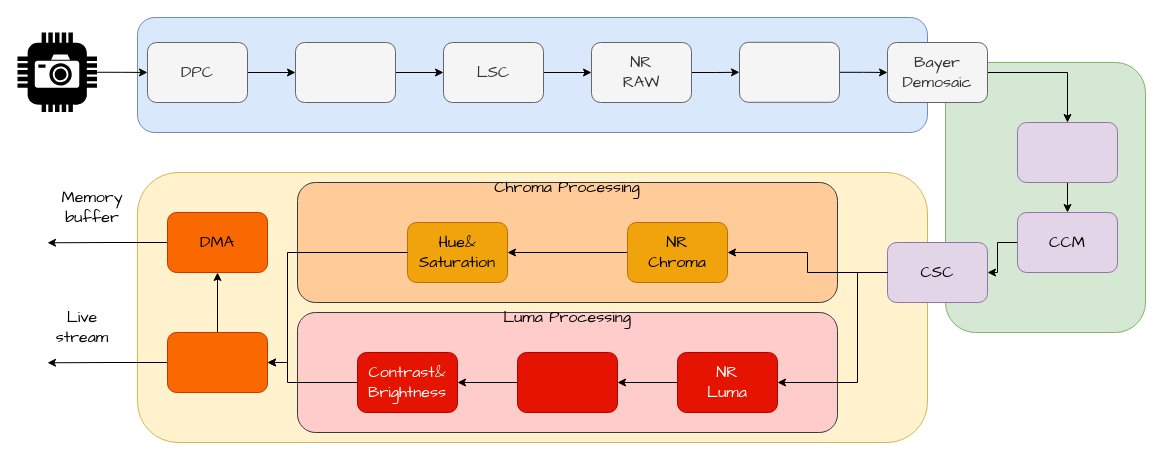
The diagram is 1163 pixels wide and 460 high, and some of its shapes have lost their labels. The shapes that lost their labels are listed below. From the top down, each one's centre as x and y in pixels, then its label:
At pixel 345 72: "BLC".
At pixel 789 71: "3A AE/AWB/AF".
At pixel 1067 152: "GAMMA".
At pixel 217 362: "Output Formatter".
At pixel 567 382: "Edge Enhance".
